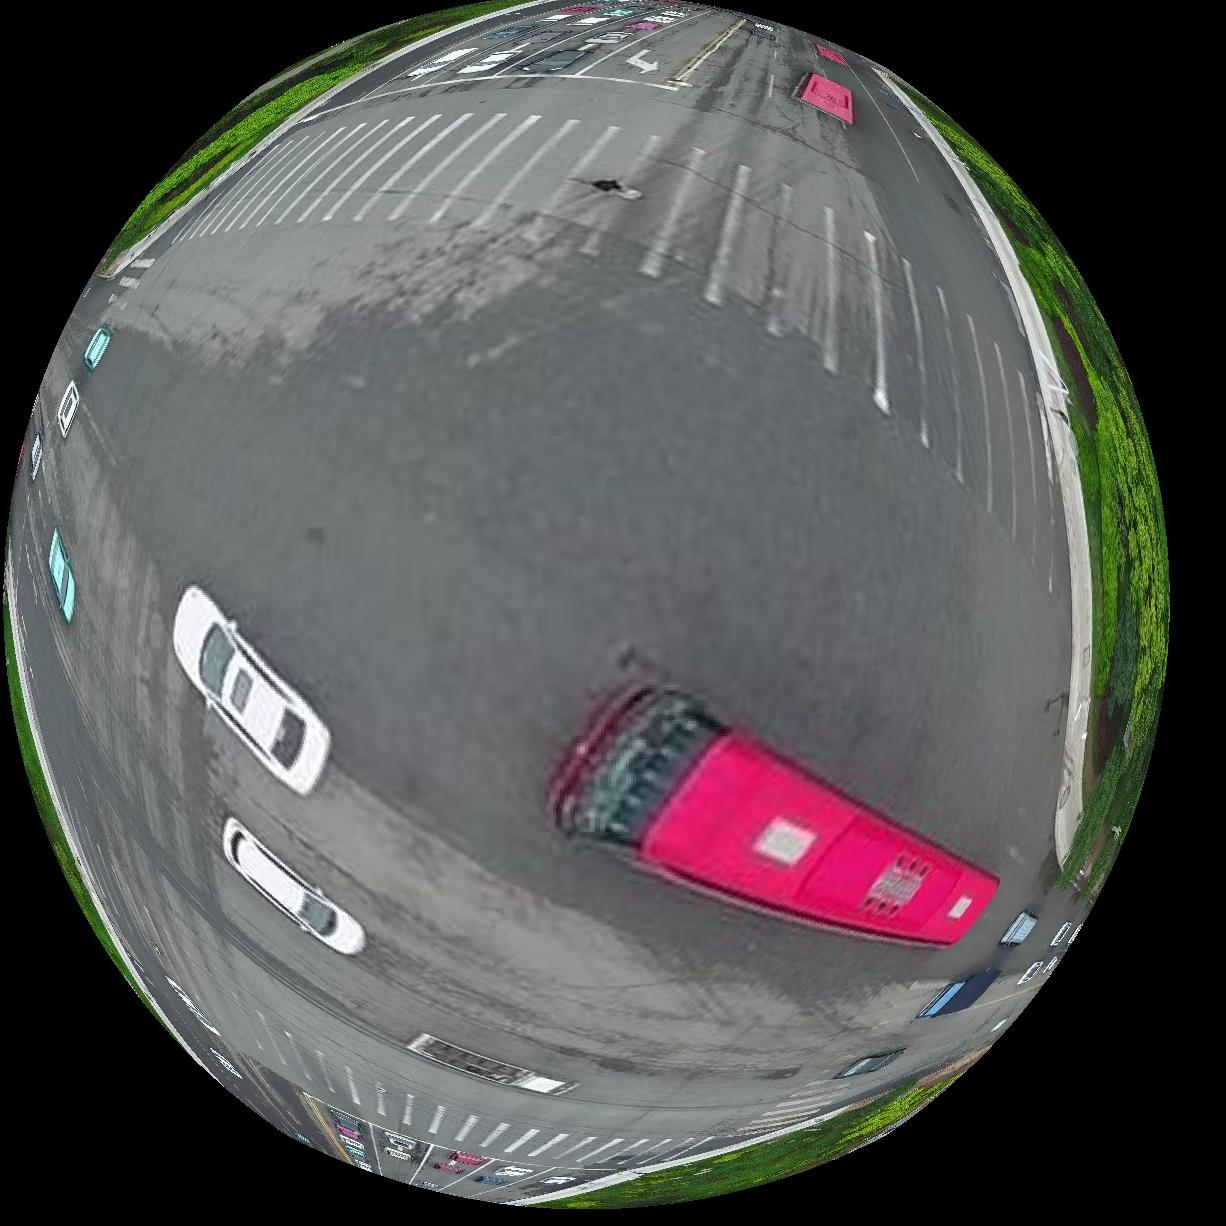cars: (548, 689, 999, 946), (171, 586, 329, 795), (220, 818, 363, 957), (405, 1035, 573, 1097), (918, 970, 1000, 1021), (795, 71, 854, 123), (45, 529, 72, 622), (836, 1051, 905, 1081), (54, 381, 77, 437), (80, 324, 108, 370), (1000, 914, 1037, 949), (26, 433, 40, 481)
trees: (914, 91, 1170, 894), (97, 1, 512, 271), (534, 1055, 981, 1213), (2, 623, 120, 971)
